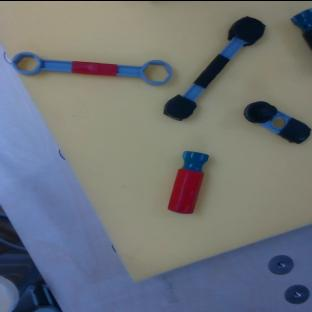part_1_bad: (241, 94, 312, 148)
part_2_bad: (291, 8, 311, 49)
part_2_good: (165, 147, 210, 216)
part_3_bad: (157, 7, 269, 127)
part_3_good: (10, 50, 172, 85)
